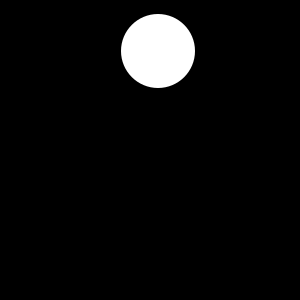rectangle: (121, 14, 195, 88)
